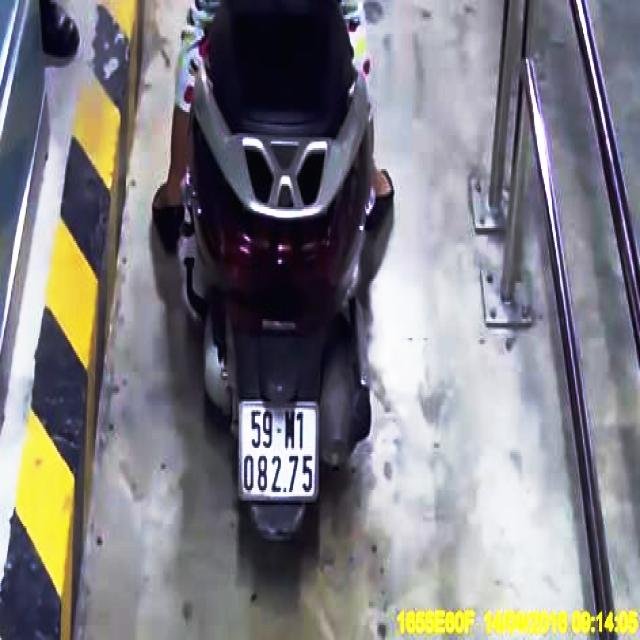license_plate: (240, 403, 321, 501)
